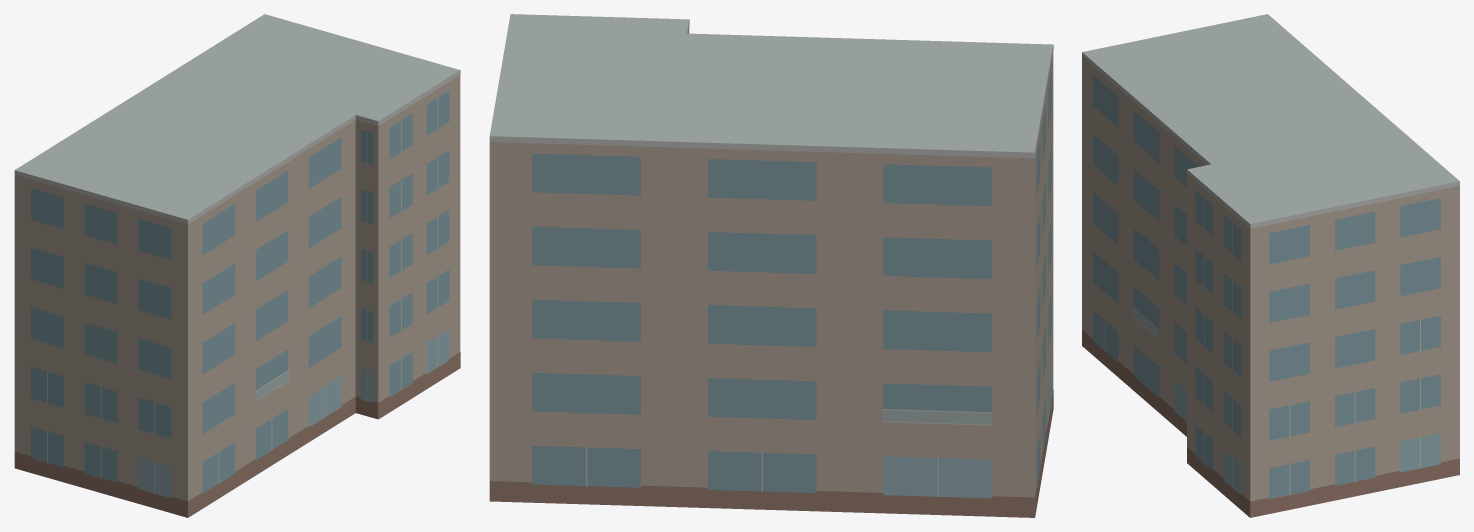
File: survey-upis-33031764.glb
3 renders of one model, left to right at view 1: azimuth 30°, elevation 25°; view 2: azimuth 150°, elevation 25°; view 3: azimuth 270°, elevation 25°, orthographic. The views are drawn at different scales.
Parts seen in each view (by area): view 1: survey-upis-33031764.tmp; view 2: survey-upis-33031764.tmp; view 3: survey-upis-33031764.tmp.
Boxes of the visible parts, x1,y1,x2,y2 form: survey-upis-33031764.tmp: [14, 14, 460, 517]; survey-upis-33031764.tmp: [489, 14, 1053, 517]; survey-upis-33031764.tmp: [1082, 14, 1459, 517].
Bounding box in the file's own units: 23.48 × 15.3 × 17.84.
